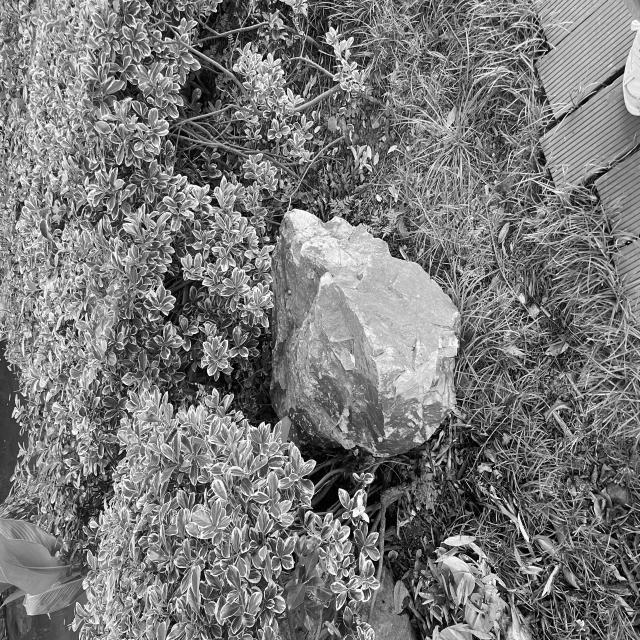Stone: (271, 210, 460, 456)
